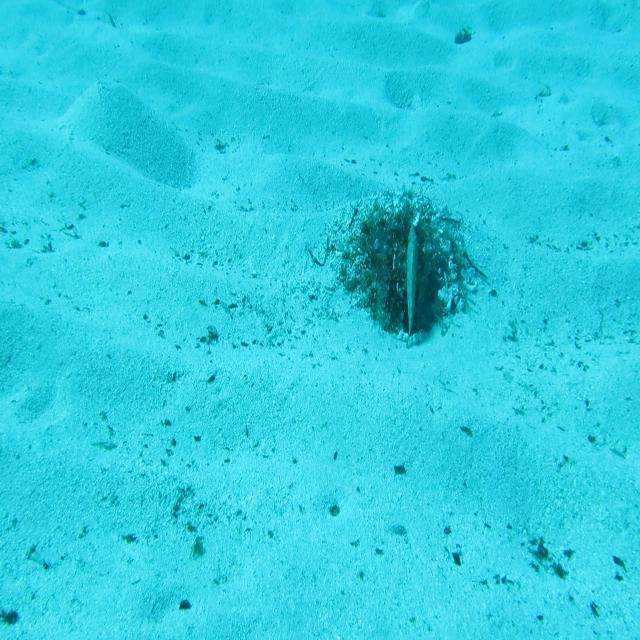FAN: (398, 207, 422, 337)
nest: (336, 182, 472, 342)
